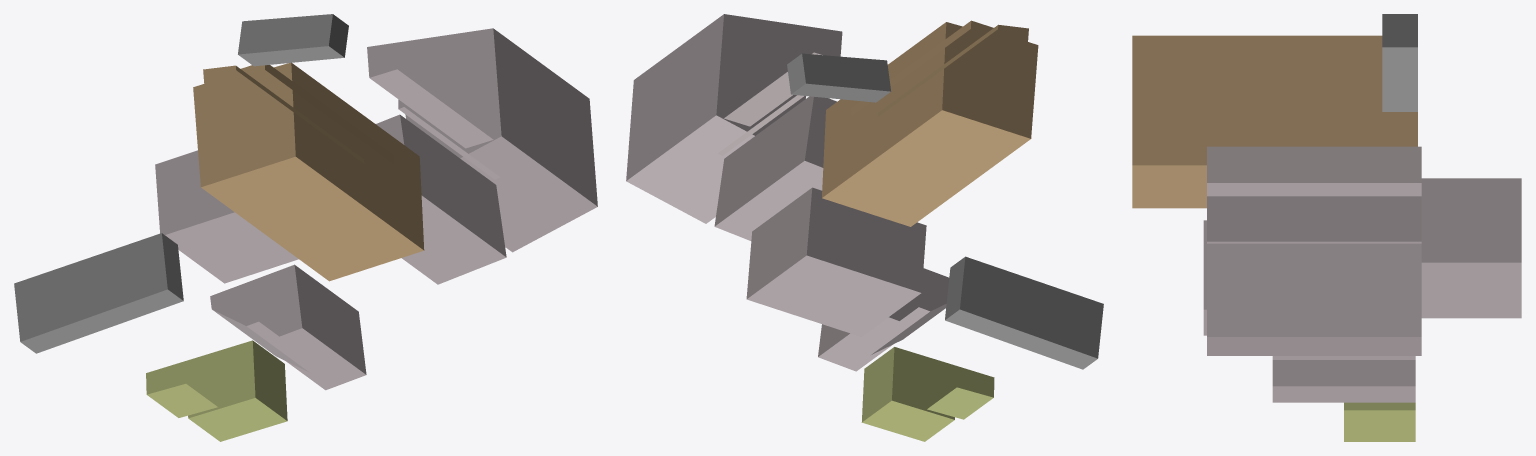
3 renders of one model, left to right at view 1: azimuth 30°, elevation 25°; view 2: azimuth 150°, elevation 25°; view 3: azimuth 270°, elevation 25°, orthographic. The views are drawn at different scales.
Visible parts, largest first — view 1: 0_2_3_3_3_0_2_0_3; view 2: 0_2_3_3_3_0_2_0_3; view 3: 0_2_3_3_3_0_2_0_3.
Part boxes in pixels (x1=…): 0_2_3_3_3_0_2_0_3: x1=14, y1=14, x2=597, y2=441; 0_2_3_3_3_0_2_0_3: x1=626, y1=14, x2=1103, y2=441; 0_2_3_3_3_0_2_0_3: x1=1132, y1=14, x2=1521, y2=441.
Bounding box in the file's own units: 52.94 × 39.47 × 32.7.
